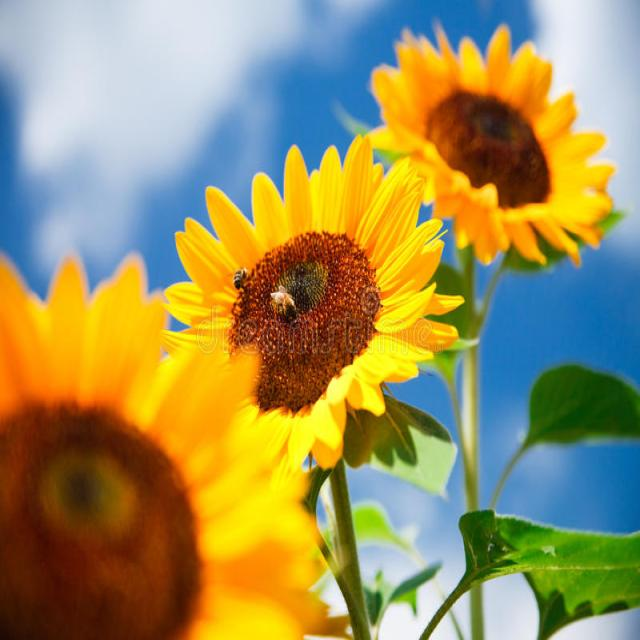sunflower: (137, 122, 453, 492), (358, 8, 625, 300)
